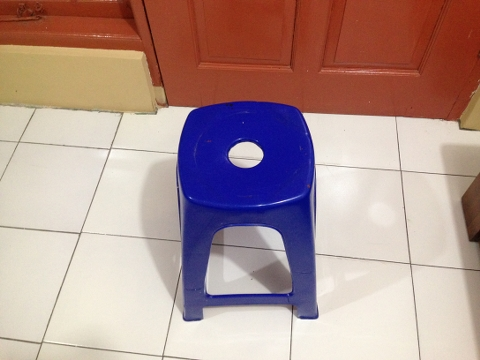kursi: (177, 101, 319, 321)
